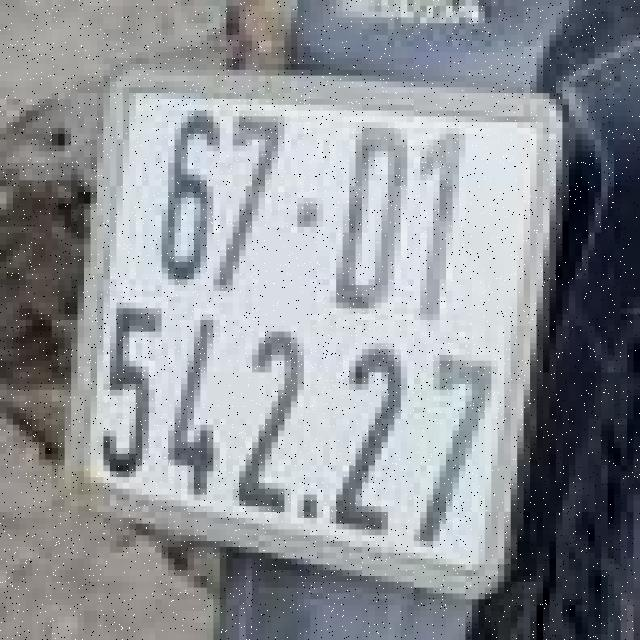1: (411, 116, 482, 332)
2: (326, 337, 411, 547), (233, 323, 304, 521)
4: (162, 306, 226, 509)
5: (97, 297, 162, 483)
6: (152, 99, 216, 285)
7: (414, 334, 498, 562), (213, 102, 291, 300)
D: (333, 116, 410, 314)
